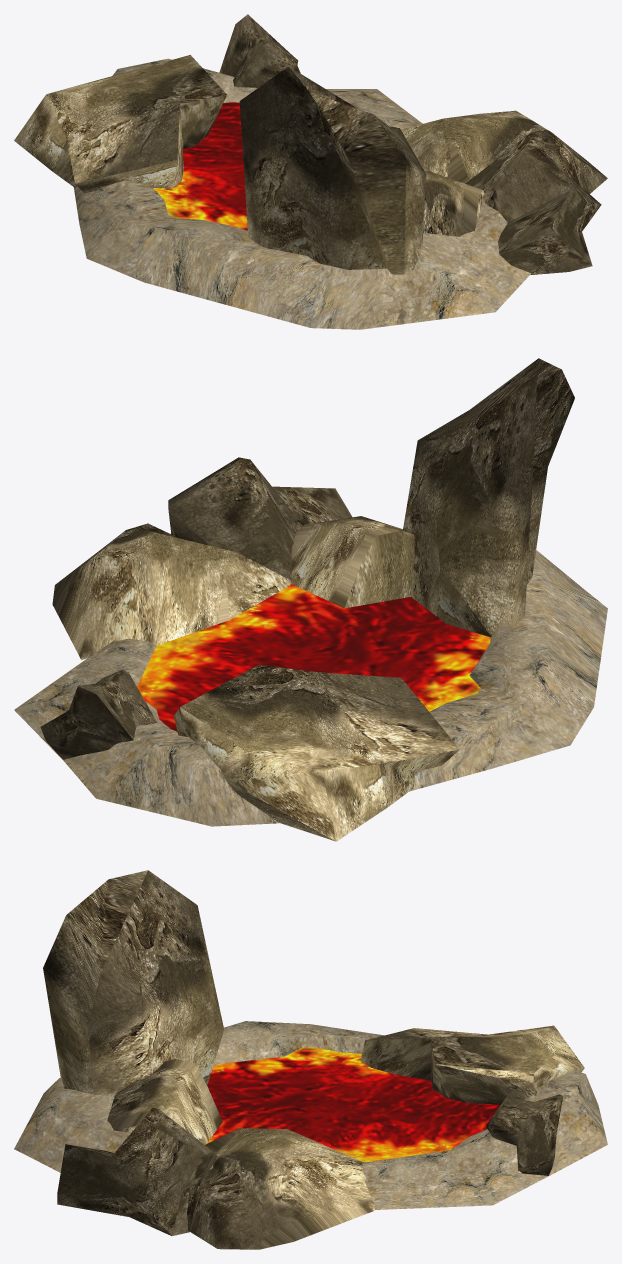
File: pir_m_prp_cav_lavapool_mediumhot.fbx
The picture shows the model from 3 angles, top to bottom: view 1: azimuth 30°, elevation 25°; view 2: azimuth 150°, elevation 25°; view 3: azimuth 270°, elevation 25°; orthographic projection. The views are drawn at different scales.
Parts seen in each view (by area): view 1: standardFourWay_floor5, Rock_68, Rock_57, Rock_48, Rock_71, pCylinder3, Rock_49, Rock_58; view 2: standardFourWay_floor5, Rock_57, Rock_68, pCylinder3, Rock_71, Rock_48, Rock_58, Rock_49; view 3: Rock_68, standardFourWay_floor5, pCylinder3, Rock_71, Rock_48, Rock_57, Rock_58, Rock_49.
Part boxes in pixels (x1,y1,x2,y2): standardFourWay_floor5: (73,58,531,329); Rock_68: (239,66,426,274); Rock_57: (14,55,226,193); Rock_48: (465,131,601,274); Rock_71: (401,110,607,193); pCylinder3: (153,102,247,230); Rock_49: (219,14,300,87); Rock_58: (423,171,484,236); standardFourWay_floor5: (14,550,607,826); Rock_57: (173,664,459,841); Rock_68: (403,358,574,637); pCylinder3: (137,584,490,731); Rock_71: (52,523,291,660); Rock_48: (168,457,352,583); Rock_58: (291,516,414,608); Rock_49: (40,669,157,759); Rock_68: (43,870,223,1094); standardFourWay_floor5: (14,1021,607,1209); pCylinder3: (207,1047,500,1162); Rock_71: (187,1128,374,1249); Rock_48: (57,1108,217,1235); Rock_57: (360,1025,584,1104); Rock_58: (107,1059,222,1144); Rock_49: (486,1094,563,1175).
Bounding box in the file's own units: 3943 × 1828 × 4516.
3 materials, 3 textured.
